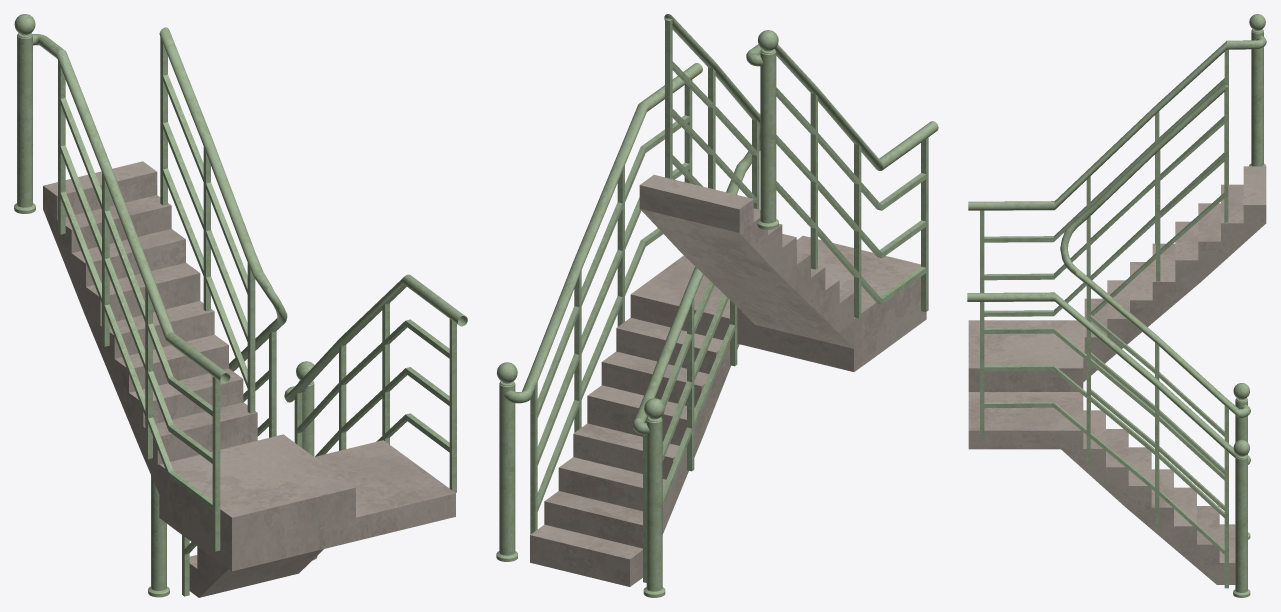
File: udlStaircase.glb
3 views of the same model, side by side, from view 1: azimuth 30°, elevation 25°; view 2: azimuth 150°, elevation 25°; view 3: azimuth 270°, elevation 25° (orthographic). The views are drawn at different scales.
Parts seen in each view (by area): view 1: Stair.001, StairsHandle.001; view 2: Stair.001, StairsHandle.001; view 3: Stair.001, StairsHandle.001.
Boxes of the visible parts, x1,y1,x2,y2 form: Stair.001: [43, 161, 455, 597]; StairsHandle.001: [14, 14, 467, 597]; Stair.001: [530, 174, 926, 586]; StairsHandle.001: [496, 14, 938, 597]; Stair.001: [968, 166, 1266, 584]; StairsHandle.001: [967, 14, 1266, 597].
Size of the model in its own units: 2.9 by 5.74 by 3.28.
Materials: 2 (2 with a texture image).
